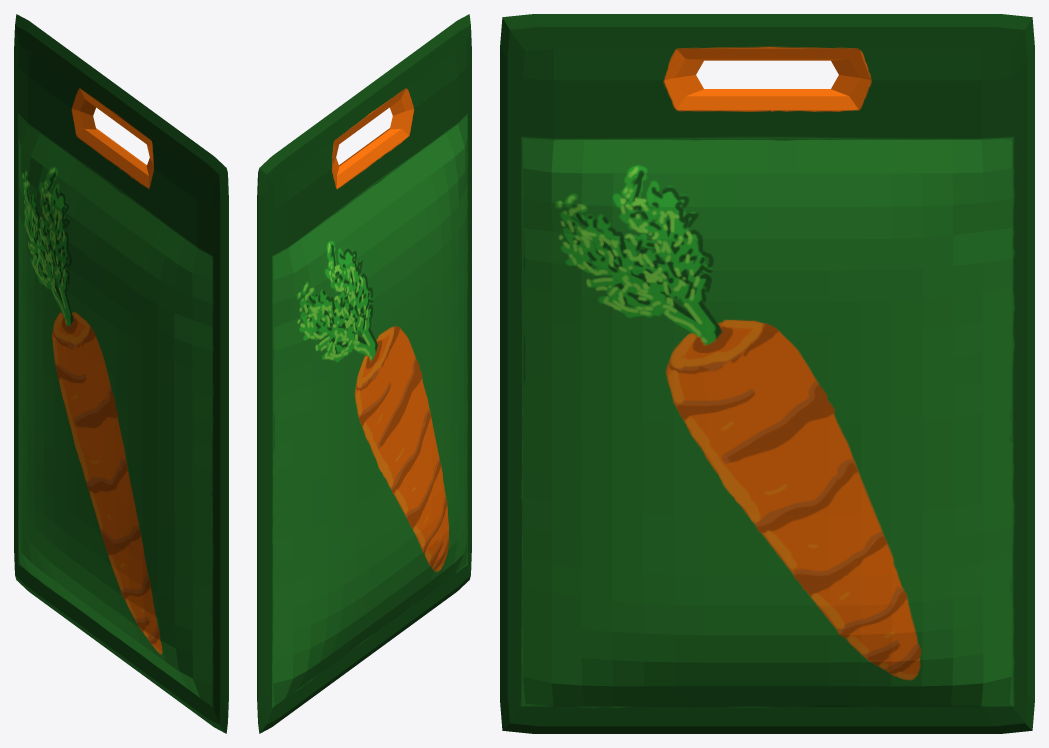
The model's file is Seeds_Carrot.fbx.
3 renders of one model, left to right at view 1: azimuth 30°, elevation 25°; view 2: azimuth 150°, elevation 25°; view 3: azimuth 270°, elevation 25°, orthographic. The views are drawn at different scales.
Parts seen in each view (by area): view 1: Cube; view 2: Cube; view 3: Cube.
Boxes of the visible parts, box(x1,y1,x2,y2) form: Cube: box(14, 14, 228, 733); Cube: box(257, 14, 471, 733); Cube: box(500, 14, 1034, 733).
Bounding box in the file's own units: 24.97 × 219 × 147.
